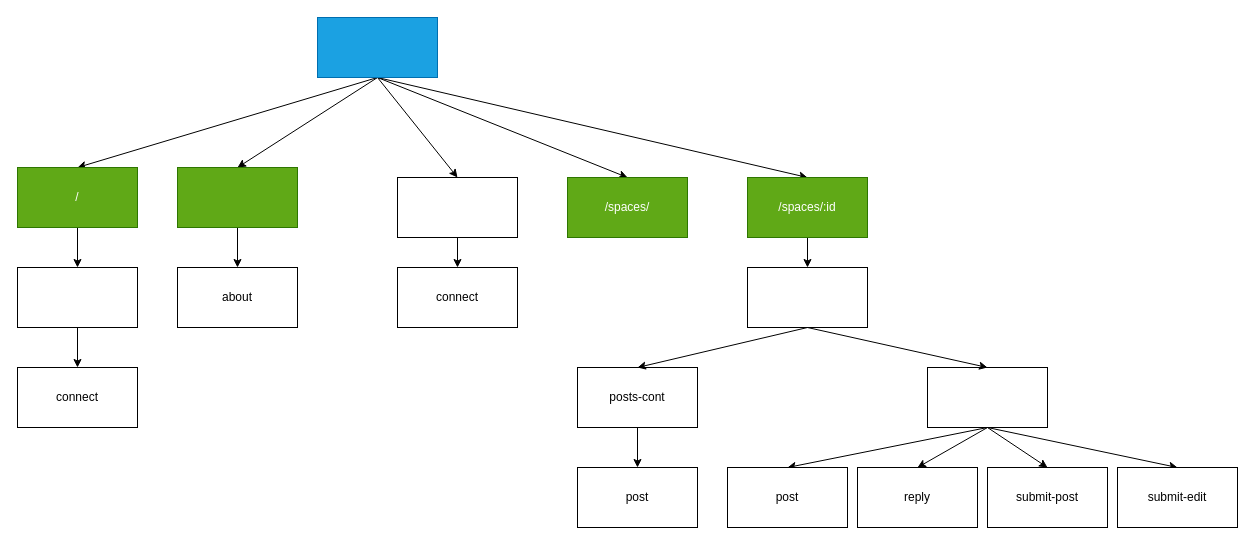
Some shapes in this 1255 by 545 pixel diagram are drawn without their labels. The centre of each missing label's shape, as x and y in pixels:
"/about" goes at point 237,197.
"app" goes at point 377,47.
"home" goes at point 77,297.
"main" goes at point 807,297.
"nav (vert)" goes at point 457,207.
"replies-cont" goes at point 987,397.
